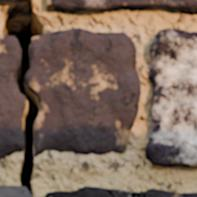brick: (146, 29, 196, 165), (47, 0, 196, 14), (46, 187, 110, 196), (141, 189, 196, 196), (0, 186, 30, 196), (112, 190, 129, 196), (0, 0, 27, 1)
broken_brick: (29, 27, 141, 157), (0, 33, 23, 161)
crack: (0, 0, 44, 196), (102, 187, 115, 196), (126, 190, 141, 196)
